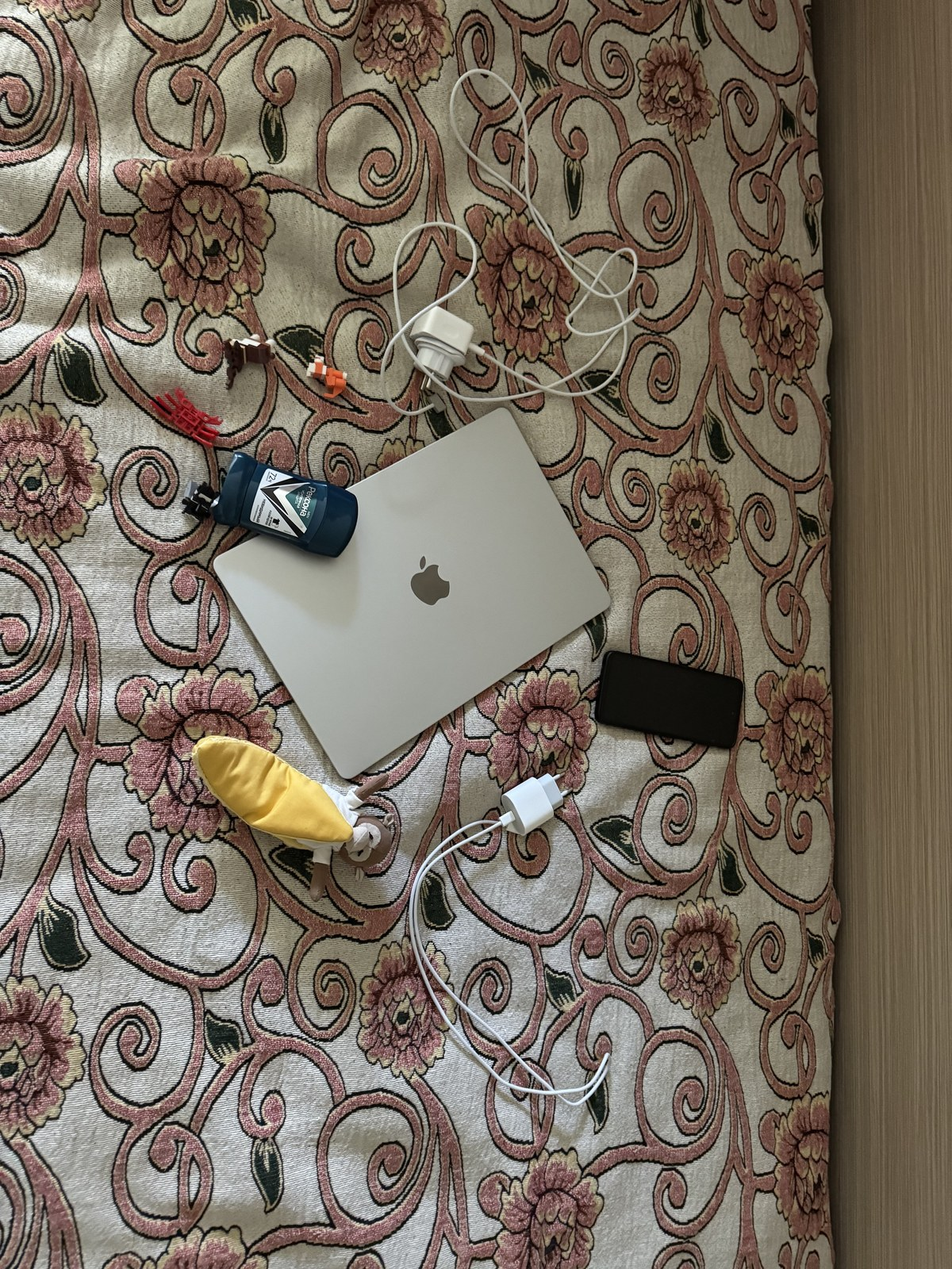cell phone: (595, 649, 744, 749)
laptop: (211, 404, 613, 779)
